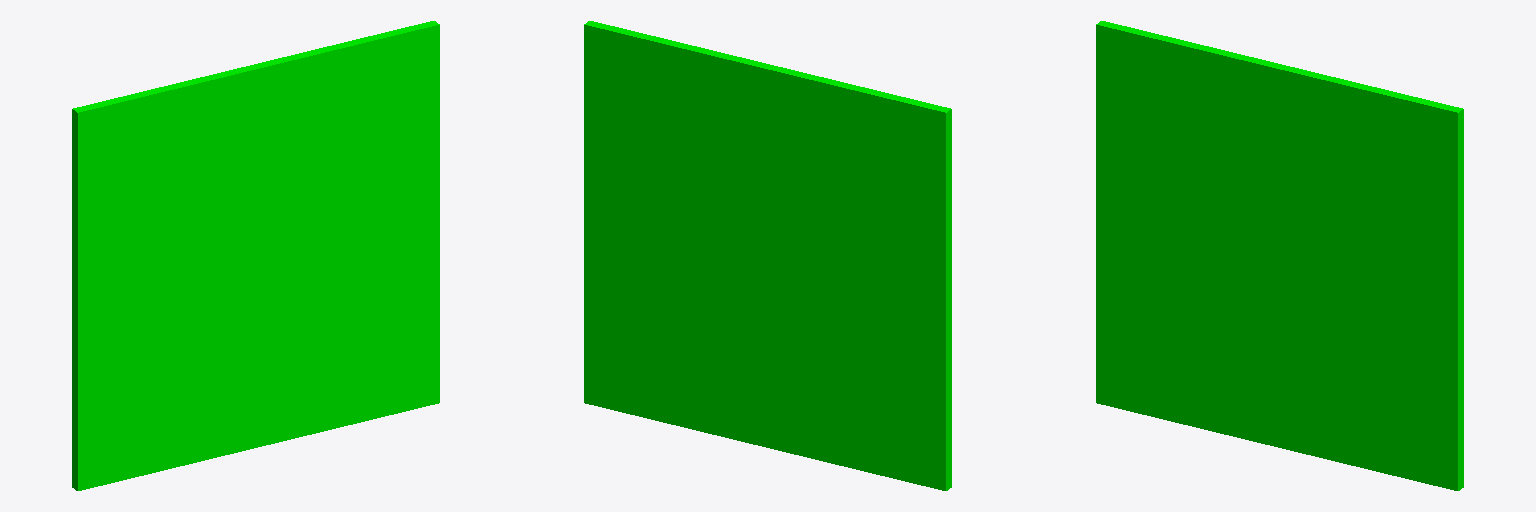
robot.urdf — box:
<?xml version="0.0" ?>
<robot name="box">
    <material name="green">
        <color rgba="0 1 0 0.2"/>
    </material>

    <link name="baseLink">
        <inertial>
            <origin rpy="0 0 0" xyz="0 0 0"/>
            <mass value="0"/>
            <inertia ixx="1" ixy="0" ixz="0" iyy="1" iyz="0" izz="1"/>
        </inertial>
        <visual>
            <origin rpy="0 0 0" xyz="0 0 0"/>
            <geometry>
                <box size="0.15 0.004 0.15"/>
            </geometry>
            <material name="green"/>
        </visual>
    </link>
</robot>

--- Facts derived from the render (not from the file) ---
Views: 3 orthographic renders of the robot side by side, from view 1: azimuth 30°, elevation 25°; view 2: azimuth 150°, elevation 25°; view 3: azimuth 330°, elevation 25°.
Robot: box — 1 links, 0 joints (none); root link baseLink; default pose: all joints at 0.
Visible links, largest first — view 1: baseLink; view 2: baseLink; view 3: baseLink.
Boxes of the visible links, box(x1,y1,x2,y2) form: baseLink: box(72, 21, 439, 490); baseLink: box(584, 21, 951, 490); baseLink: box(1096, 21, 1463, 490).
Size in the robot's own frame: 0.15 by 0.004 by 0.15 metres.
Geometry: primitives only (box / cylinder / sphere), no mesh files.